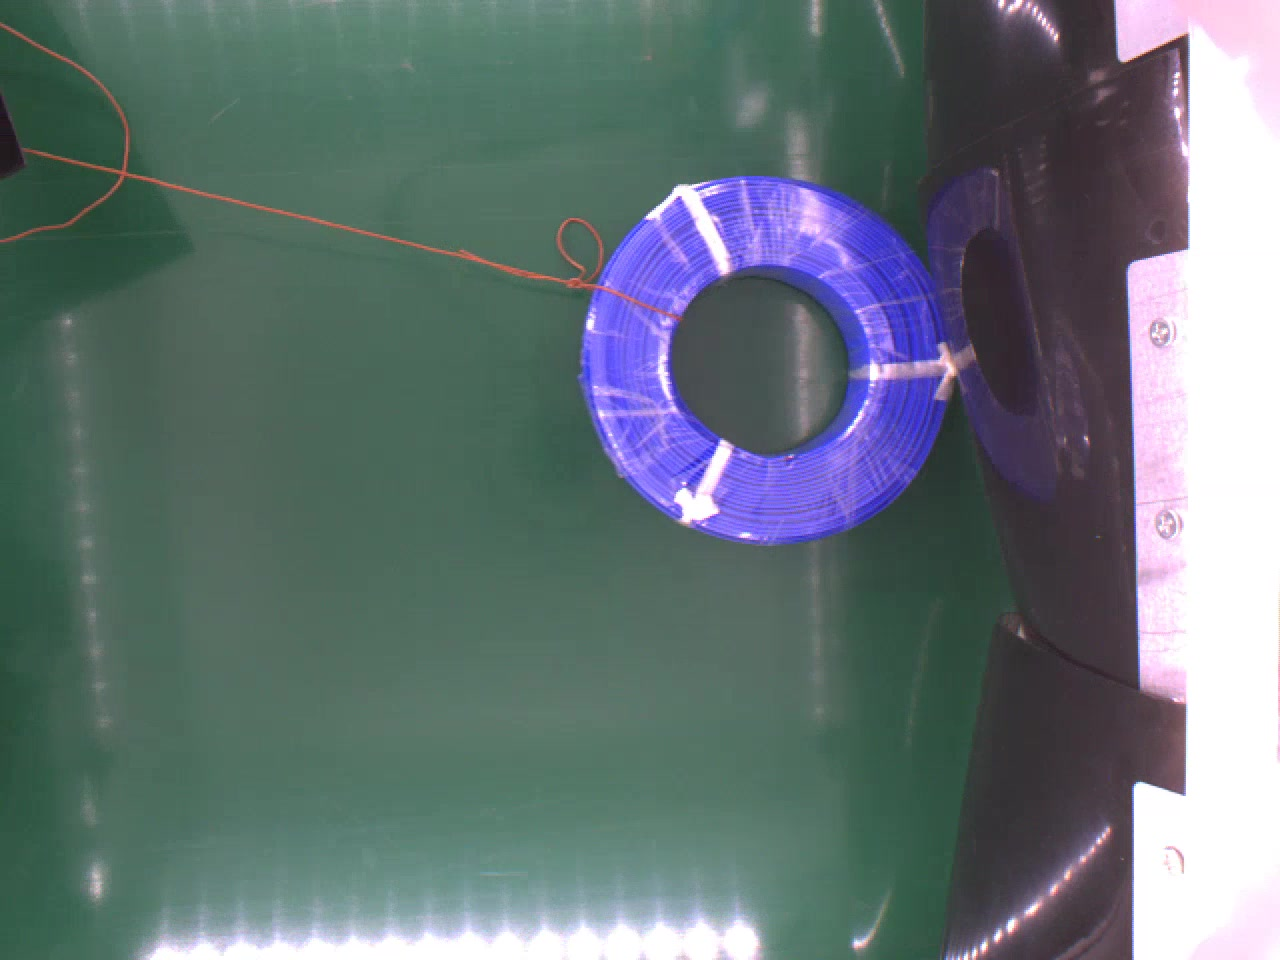blue: (580, 172, 953, 541)
